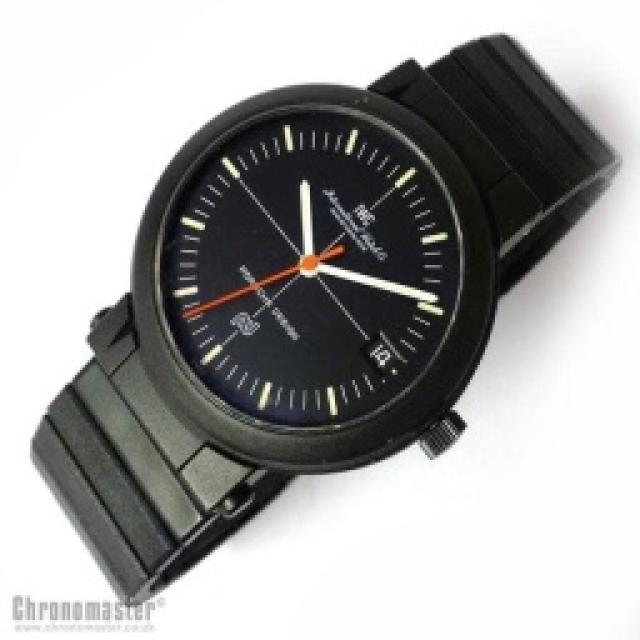saat: (0, 24, 635, 610)
